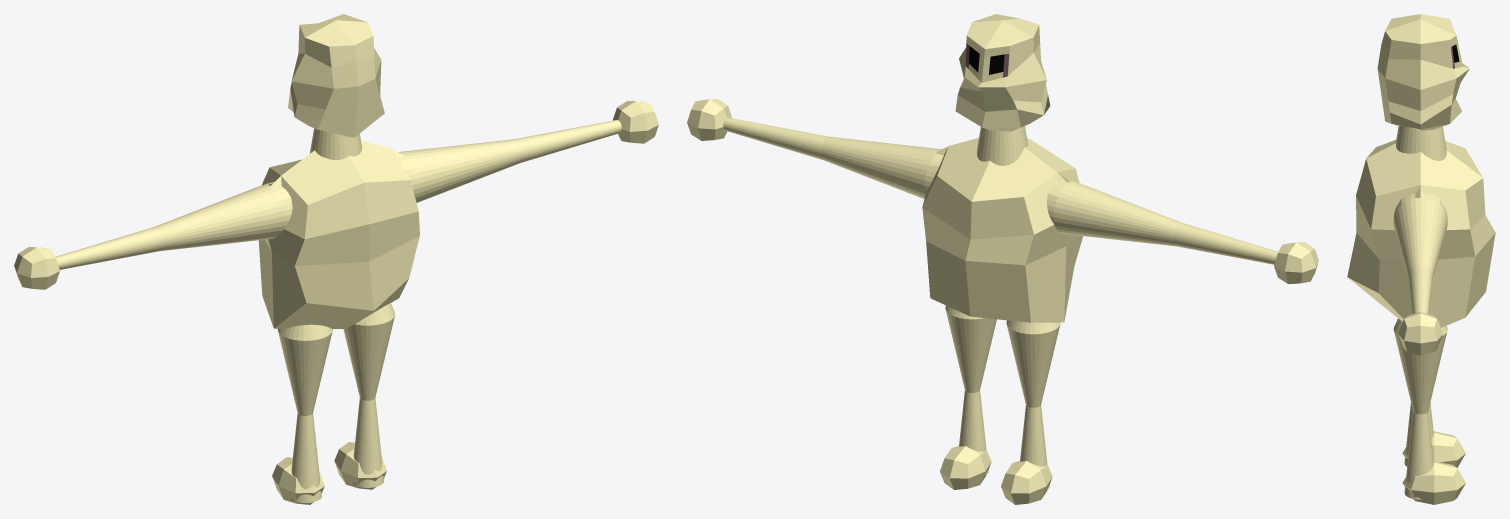
Rendered from mecanicoPlaneta6.fbx.
3 views of the same model, side by side, from view 1: azimuth 30°, elevation 25°; view 2: azimuth 150°, elevation 25°; view 3: azimuth 270°, elevation 25° (orthographic). The views are drawn at different scales.
Parts seen in each view (by area): view 1: Cube; view 2: Cube; view 3: Cube.
Part boxes in pixels (left/top/right/bottom): Cube: left=14, top=14, right=658, bottom=504; Cube: left=687, top=14, right=1318, bottom=504; Cube: left=1347, top=14, right=1495, bottom=504.
Size of the model in its own units: 2668 by 1913 by 548.
